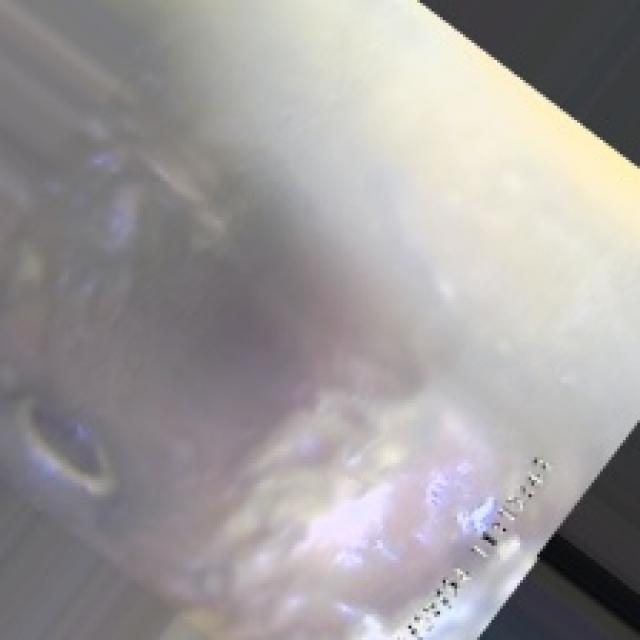encrustation: (9, 377, 126, 500)
